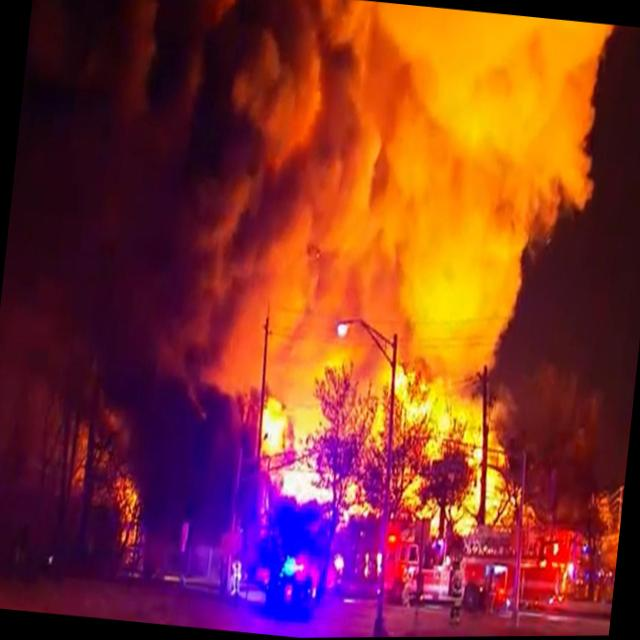fire: (450, 420, 509, 533), (386, 354, 457, 436), (257, 391, 296, 466)
